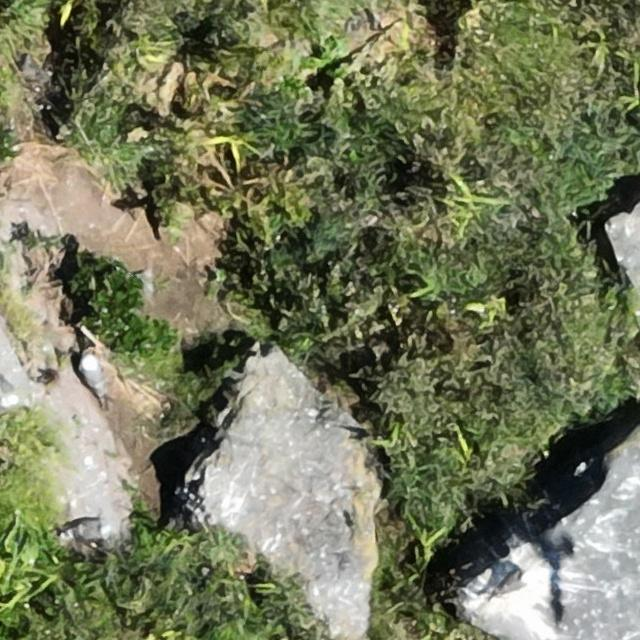umineko: (494, 569, 537, 597), (82, 356, 104, 396), (66, 519, 104, 540)
